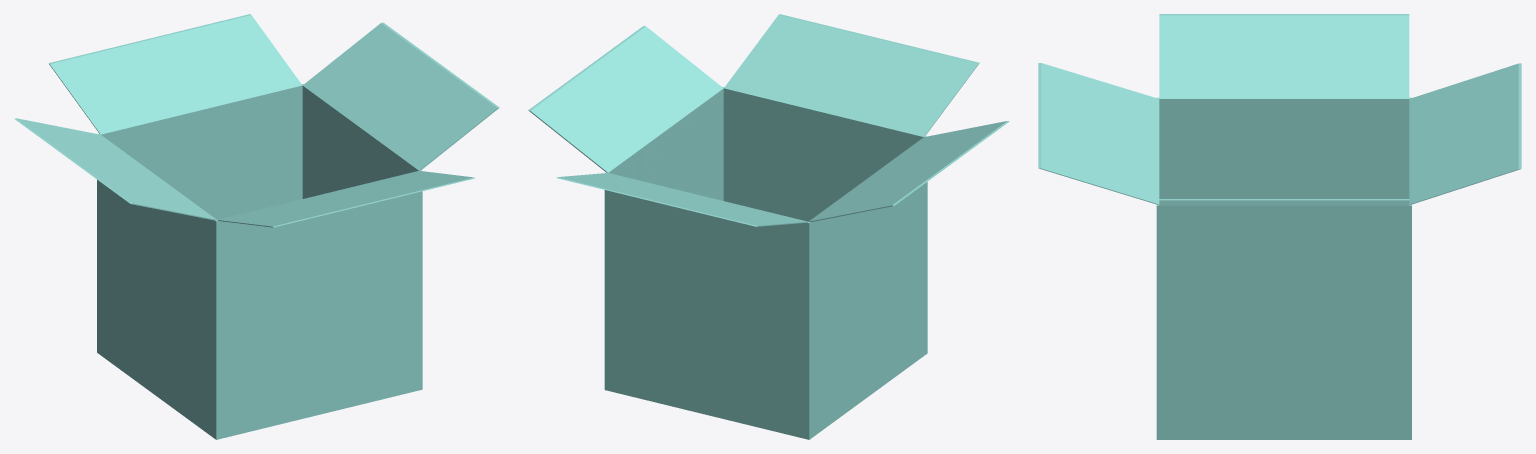
The model's file is Pakke7.fbx.
The picture shows the model from 3 angles, left to right: view 1: azimuth 30°, elevation 25°; view 2: azimuth 150°, elevation 25°; view 3: azimuth 270°, elevation 25°; orthographic projection. The views are drawn at different scales.
Parts seen in each view (by area): view 1: pakke7; view 2: pakke7; view 3: pakke7.
Boxes of the visible parts, x1,y1,x2,y2 form: pakke7: [14, 14, 499, 439]; pakke7: [528, 14, 1009, 439]; pakke7: [1038, 14, 1521, 439].
Bounding box in the file's own units: 137 × 92.58 × 144.
